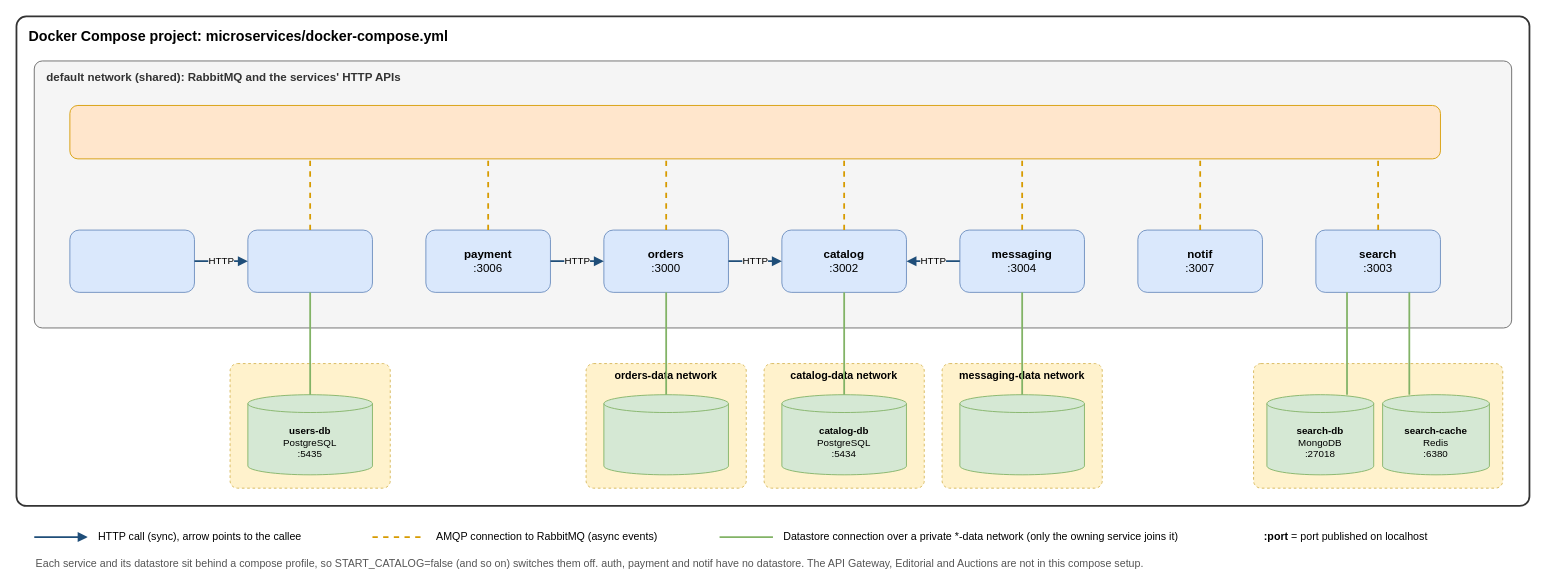
The diagram is 1545 pixels wide and 587 high, and some of its shapes have lost their labels. The box of each missing label's shape, as (x1, y1, x2, y2) in pixels:
auth :3001: (69, 229, 194, 292)
messaging-db MongoDB :27019: (959, 394, 1084, 475)
orders-db PostgreSQL :5433: (603, 394, 728, 475)
rabbitmq RabbitMQ 4 · AMQP :5672 · management UI :15672: (69, 105, 1440, 159)
search-data network: (1253, 363, 1503, 488)
users :3005: (247, 229, 372, 292)
users-data network: (229, 363, 390, 488)
